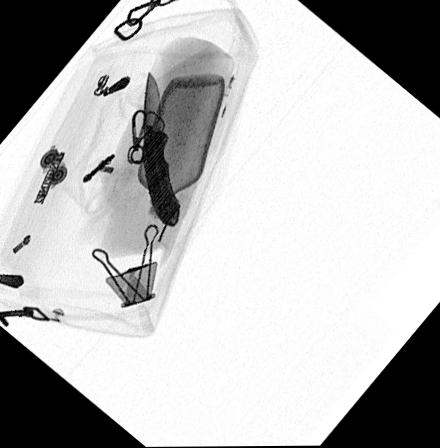Knife: (139, 70, 182, 228)
